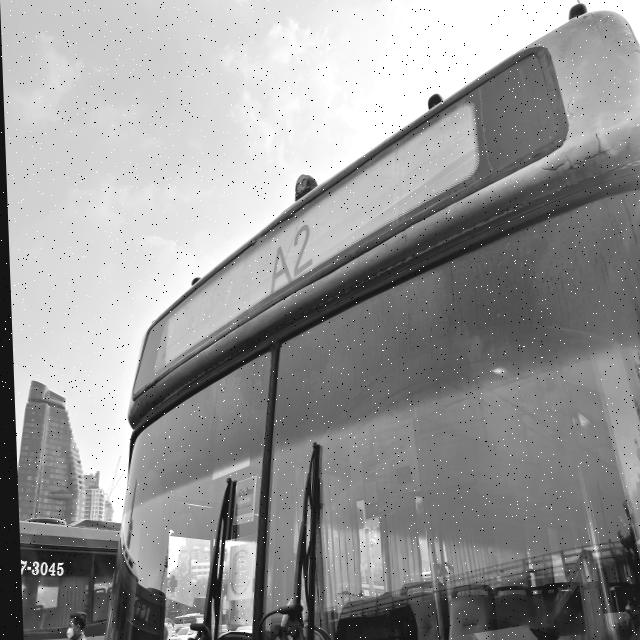BMTA-bus: (105, 8, 640, 640)
Bus Line Number: (265, 218, 318, 299)
